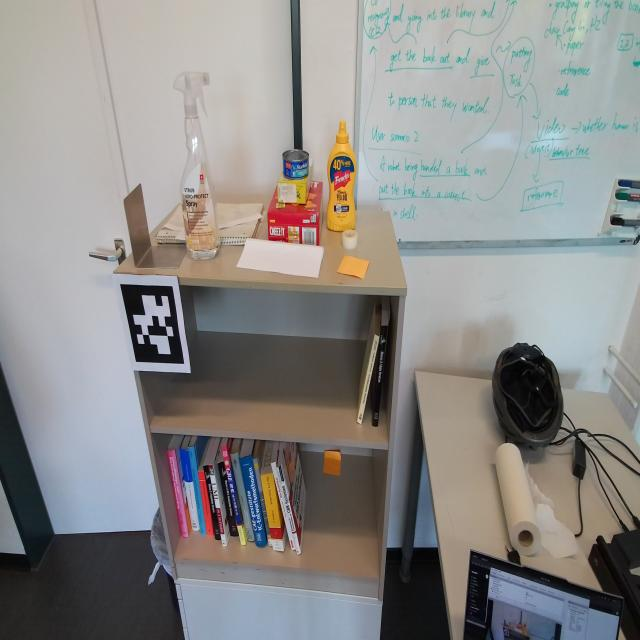Book Spine: (239, 454, 266, 547), (221, 446, 246, 545), (230, 450, 255, 541), (276, 465, 301, 555), (271, 462, 296, 550), (357, 334, 380, 424), (167, 450, 189, 538), (261, 473, 284, 552), (179, 448, 200, 531), (188, 446, 207, 535), (253, 457, 272, 546), (372, 325, 388, 427), (218, 462, 239, 537), (208, 464, 227, 546), (203, 465, 221, 540), (198, 471, 214, 535)
